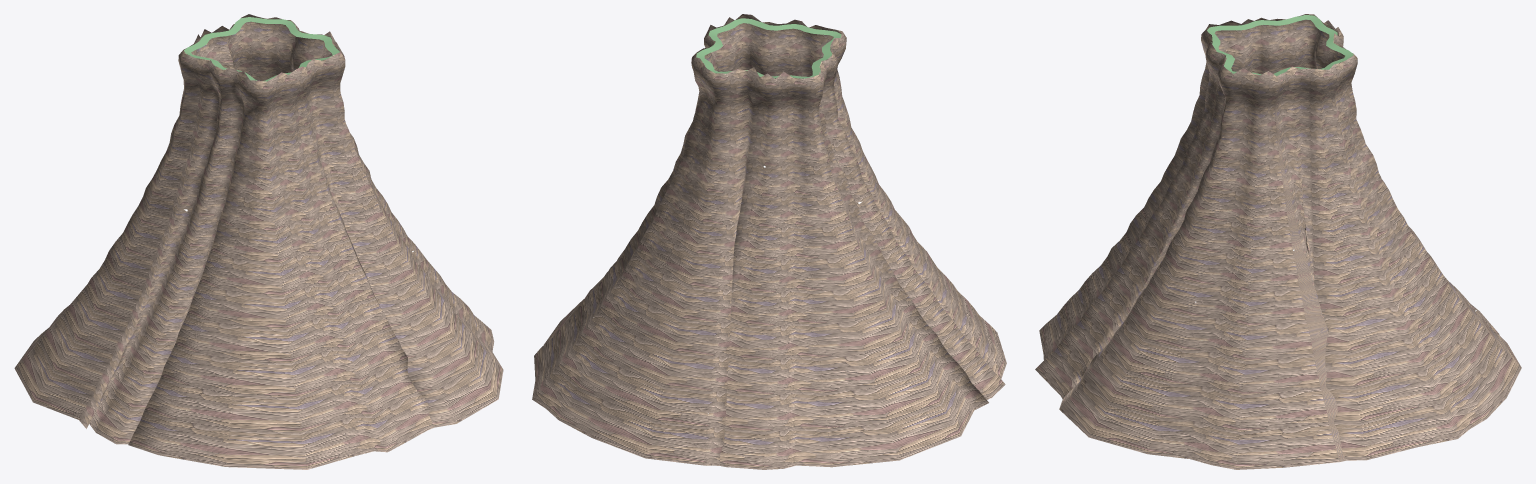
Rendered from CliffWall_stack_13.glb.
The picture shows the model from 3 angles, left to right: view 1: azimuth 30°, elevation 25°; view 2: azimuth 150°, elevation 25°; view 3: azimuth 270°, elevation 25°; orthographic projection.
Parts seen in each view (by area): view 1: CliffWall_stack_13-rock0, CliffWall_stack_13-lip0; view 2: CliffWall_stack_13-rock0, CliffWall_stack_13-lip0; view 3: CliffWall_stack_13-rock0, CliffWall_stack_13-lip0.
Boxes of the visible parts, x1=… form: CliffWall_stack_13-rock0: x1=14, y1=14, x2=503, y2=469; CliffWall_stack_13-lip0: x1=184, y1=17, x2=339, y2=81; CliffWall_stack_13-rock0: x1=532, y1=14, x2=1006, y2=469; CliffWall_stack_13-lip0: x1=696, y1=18, x2=841, y2=78; CliffWall_stack_13-rock0: x1=1035, y1=14, x2=1521, y2=469; CliffWall_stack_13-lip0: x1=1207, y1=15, x2=1353, y2=76.
Size of the model in its own units: 509 by 376 by 506.
Materials: 4 (1 with a texture image).
